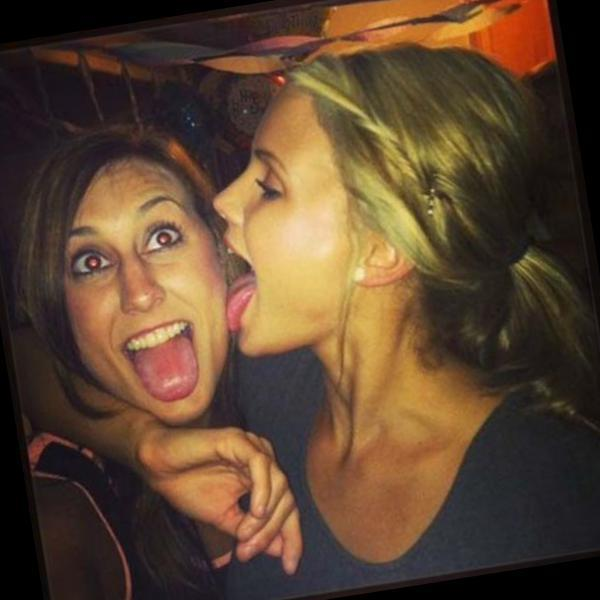Drunk: (64, 174, 223, 418), (213, 103, 351, 343)
